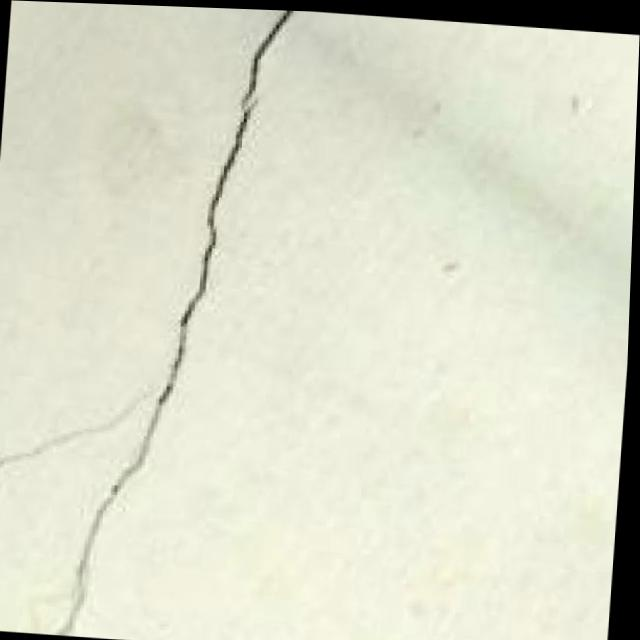Crack: (54, 2, 327, 640)
